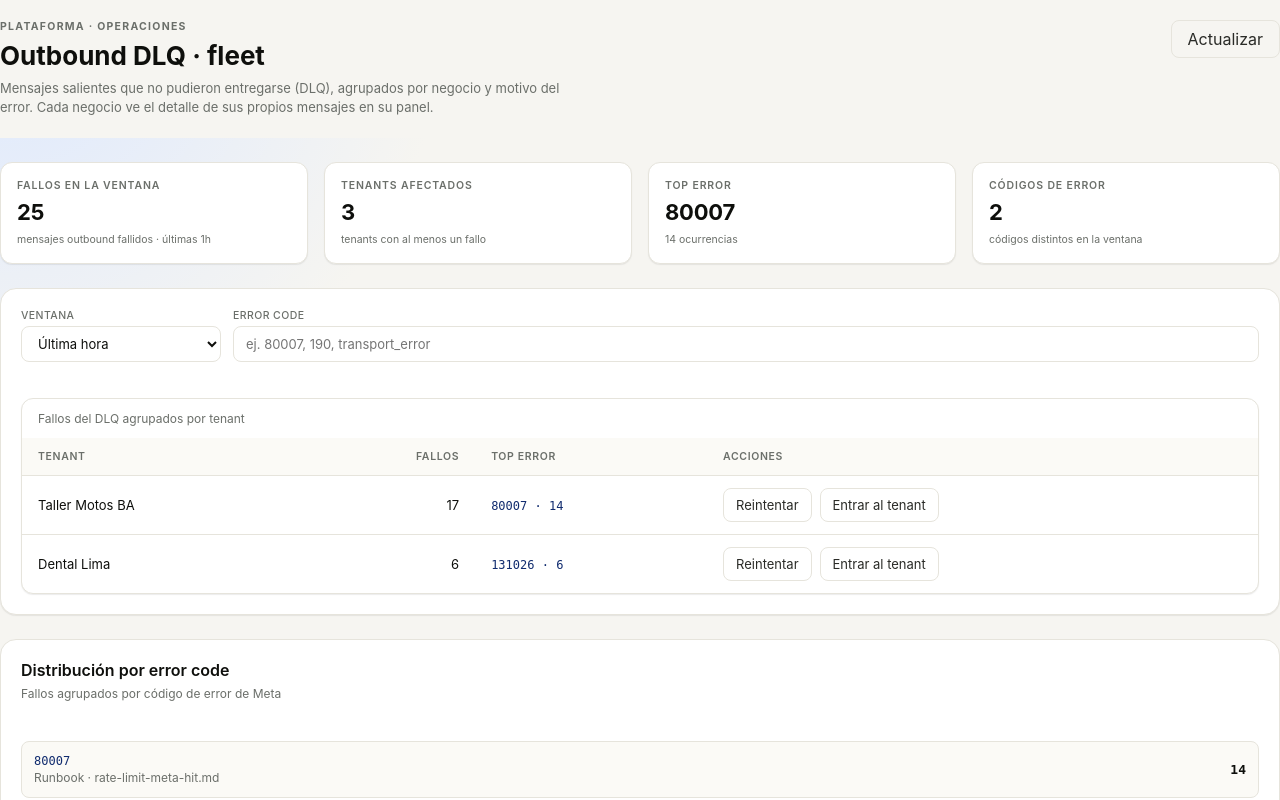
FleetDlq › bulk-retries a tenant DLQ through the confirmation modal
Expected: the text "Taller Motos BA" is shown, [22, 476, 308, 535]
Click the button "Reintentar" in the row of "Taller Motos BA" at (767, 505), box [723, 488, 812, 522]
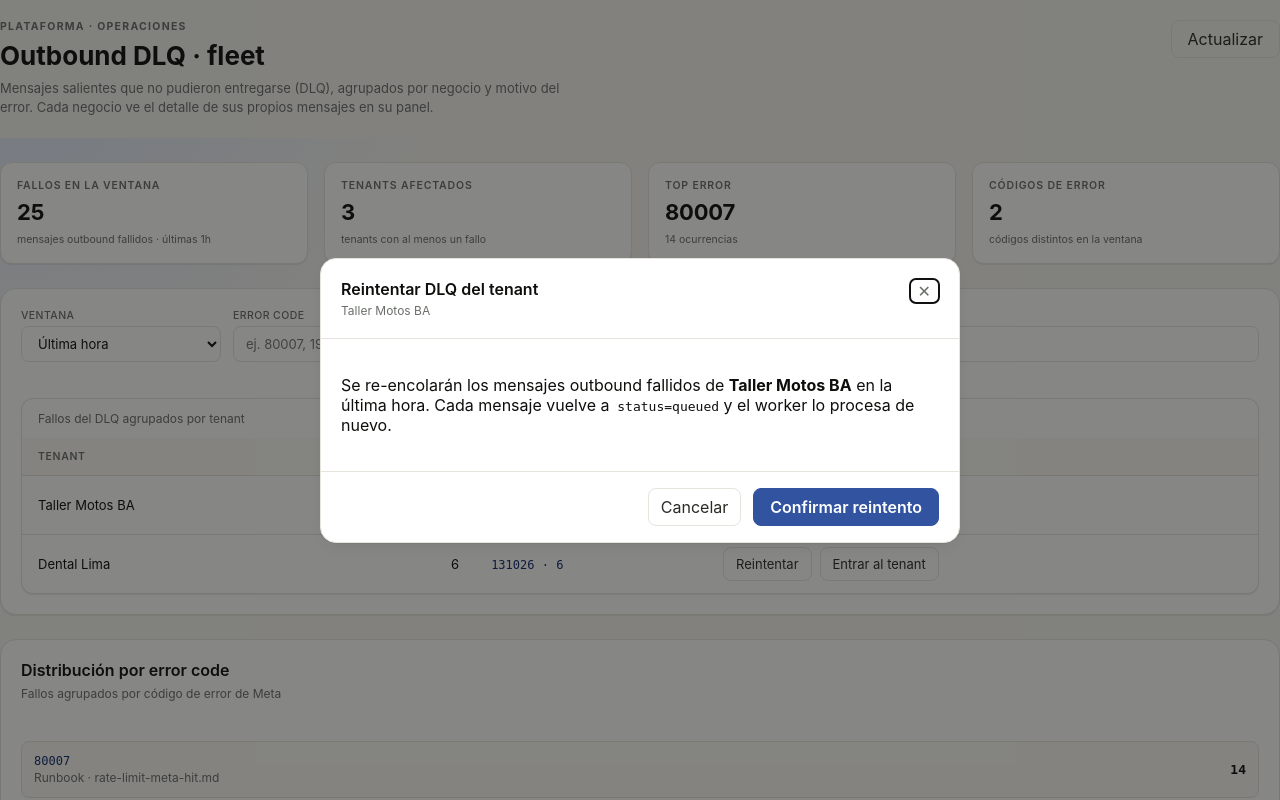
Expected: the dialog shows "Taller Motos BA", [341, 302, 430, 318]
Click the button "Confirmar reintento" at (846, 506), box [753, 488, 939, 526]
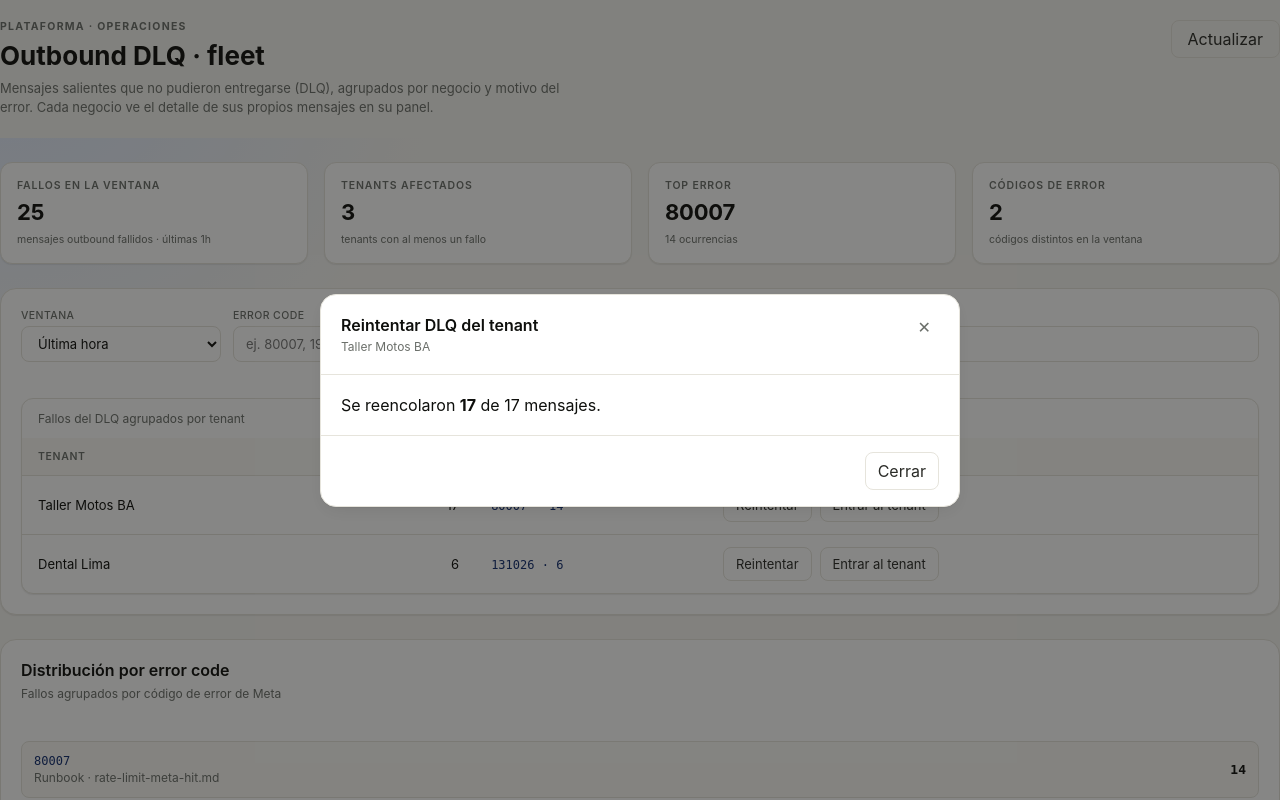
Expected: the text "Se reencolaron 17 de 17 mensajes." is shown, [341, 394, 601, 414]
